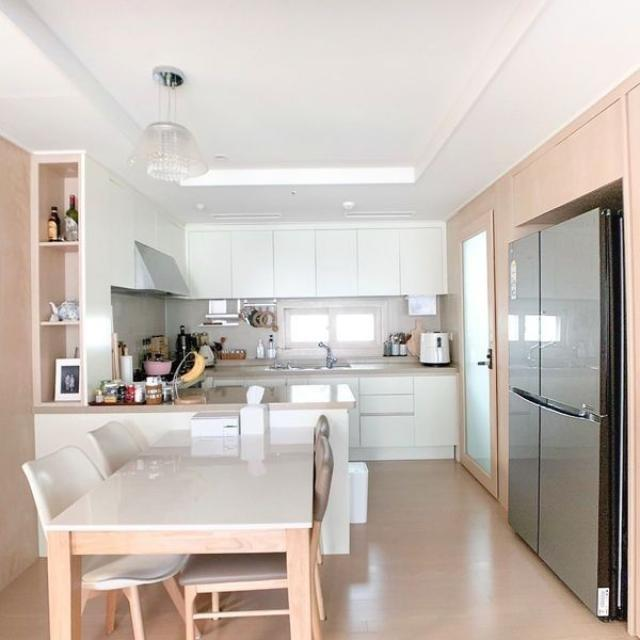obstacle: (44, 428, 317, 639), (504, 205, 626, 622)
